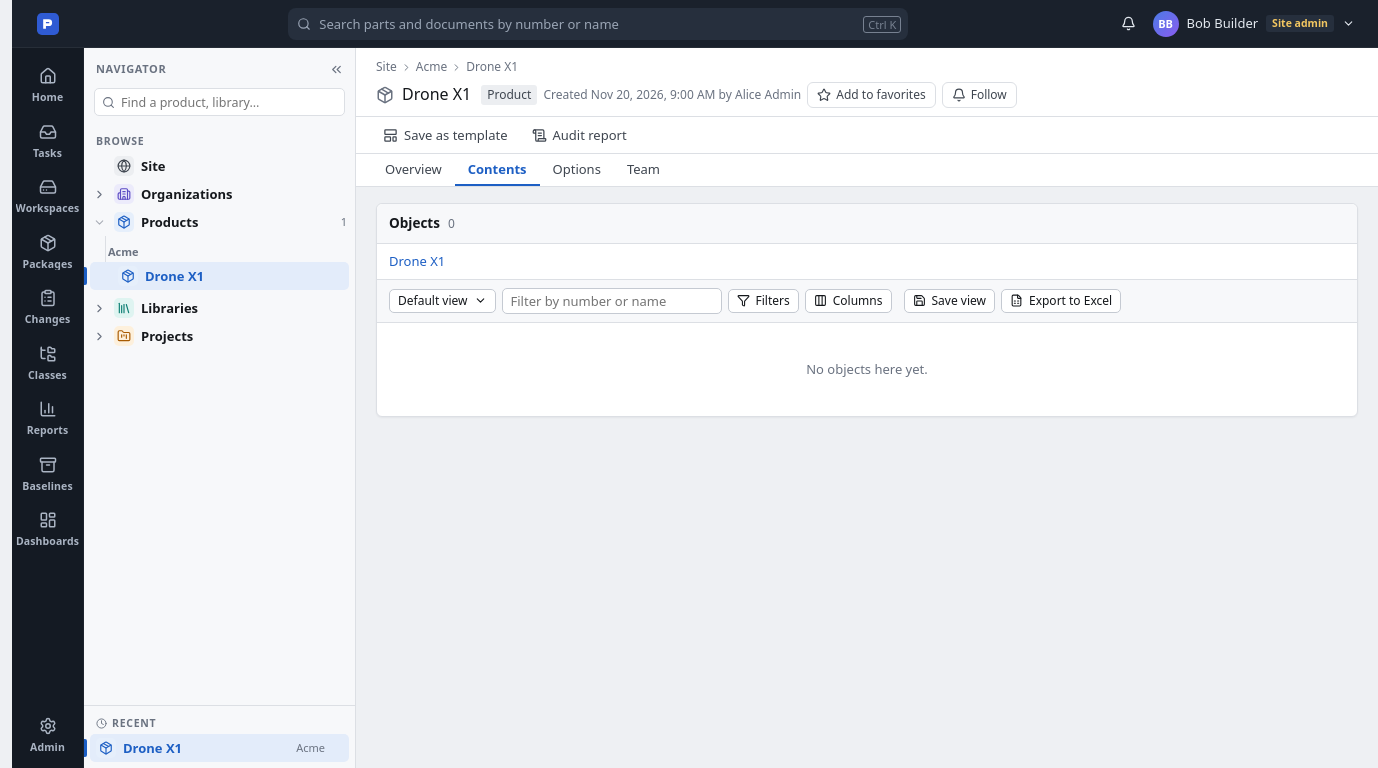
it: Navigator › groups contexts by kind and lists the current kind's contexts, highlighting where we are
Check: the link "Site" below "Browse" is shown, box [114, 156, 166, 176]
Check: the link "Organizations" is shown, box [114, 184, 233, 204]
What coordinates should you click on to do the following:
click the button named "Show libraries"
I would click on:
 (99, 308)
Its box is [90, 299, 108, 317].
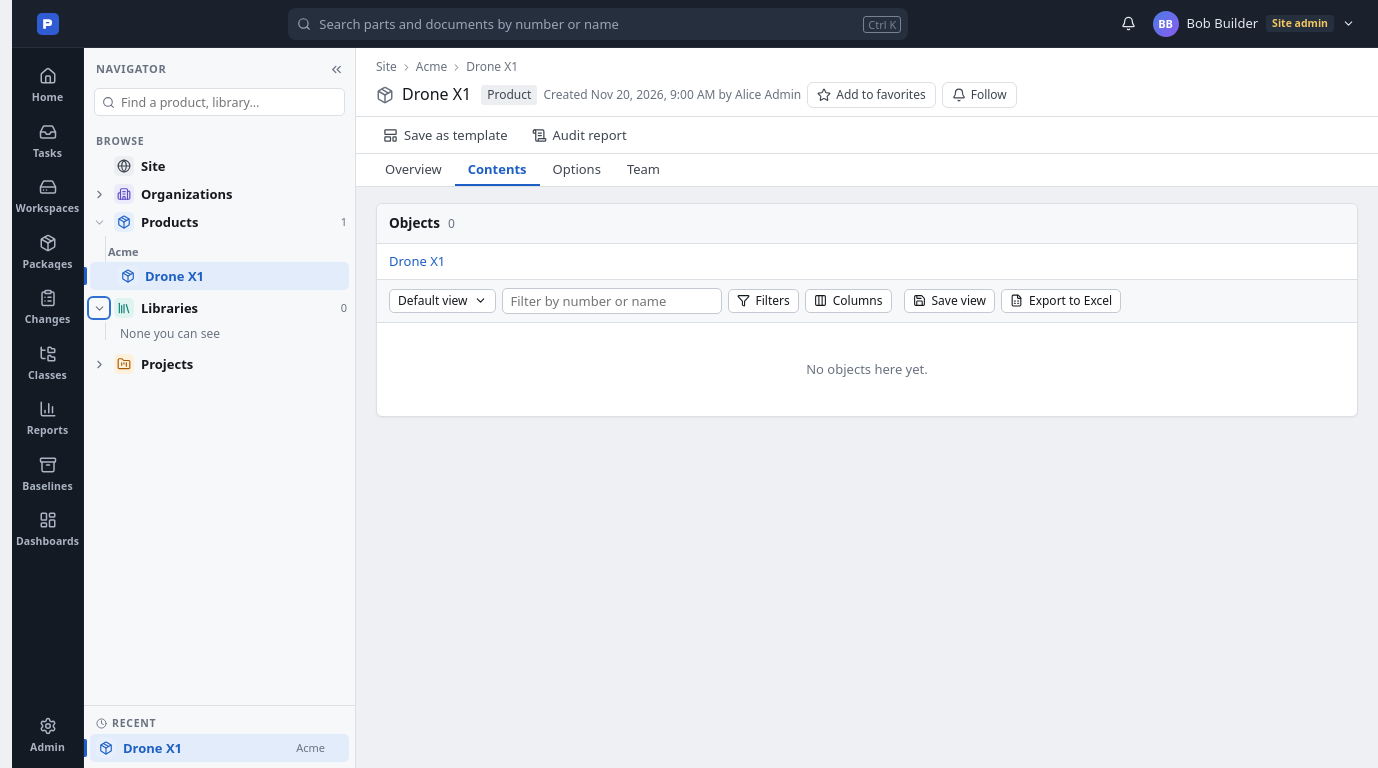
Check: the list item "None you can see" is shown, box [120, 326, 220, 342]
